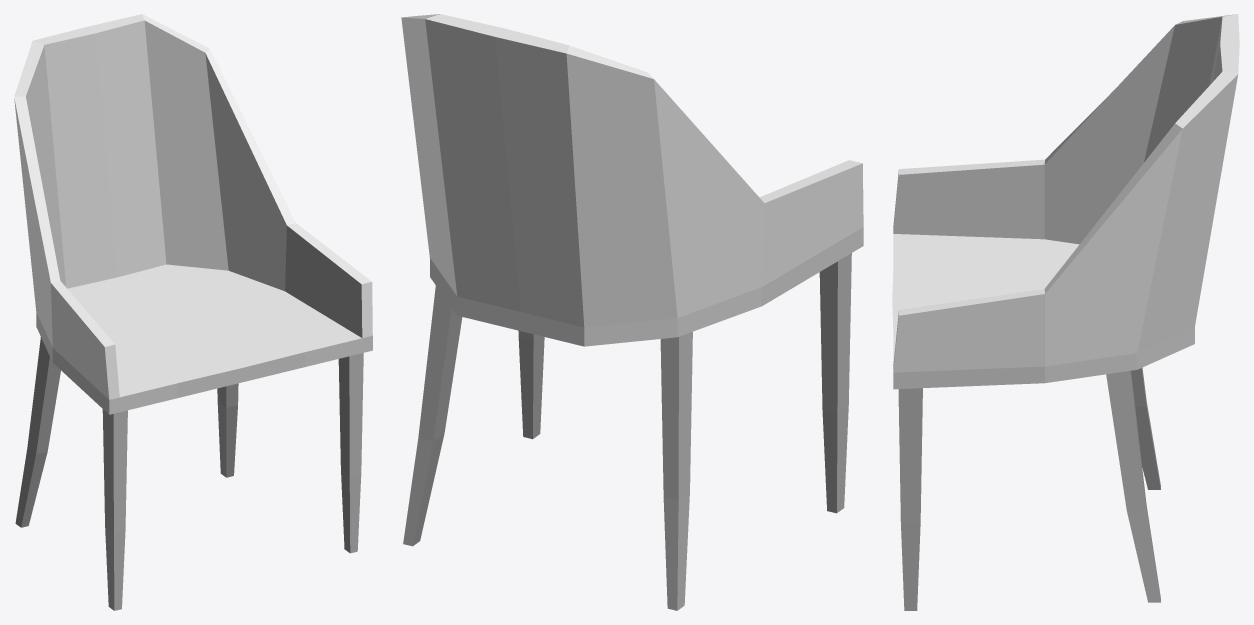
The model's file is dprop_chair.fbx.
3 views of the same model, side by side, from view 1: azimuth 30°, elevation 25°; view 2: azimuth 150°, elevation 25°; view 3: azimuth 270°, elevation 25° (orthographic). The views are drawn at different scales.
Visible parts, largest first — view 1: ChairA; view 2: ChairA; view 3: ChairA.
Boxes of the visible parts, x1,y1,x2,y2 form: ChairA: (14, 14, 372, 610); ChairA: (401, 14, 863, 610); ChairA: (892, 14, 1239, 610).
Bounding box in the file's own units: 56.1 × 56.18 × 89.23.
